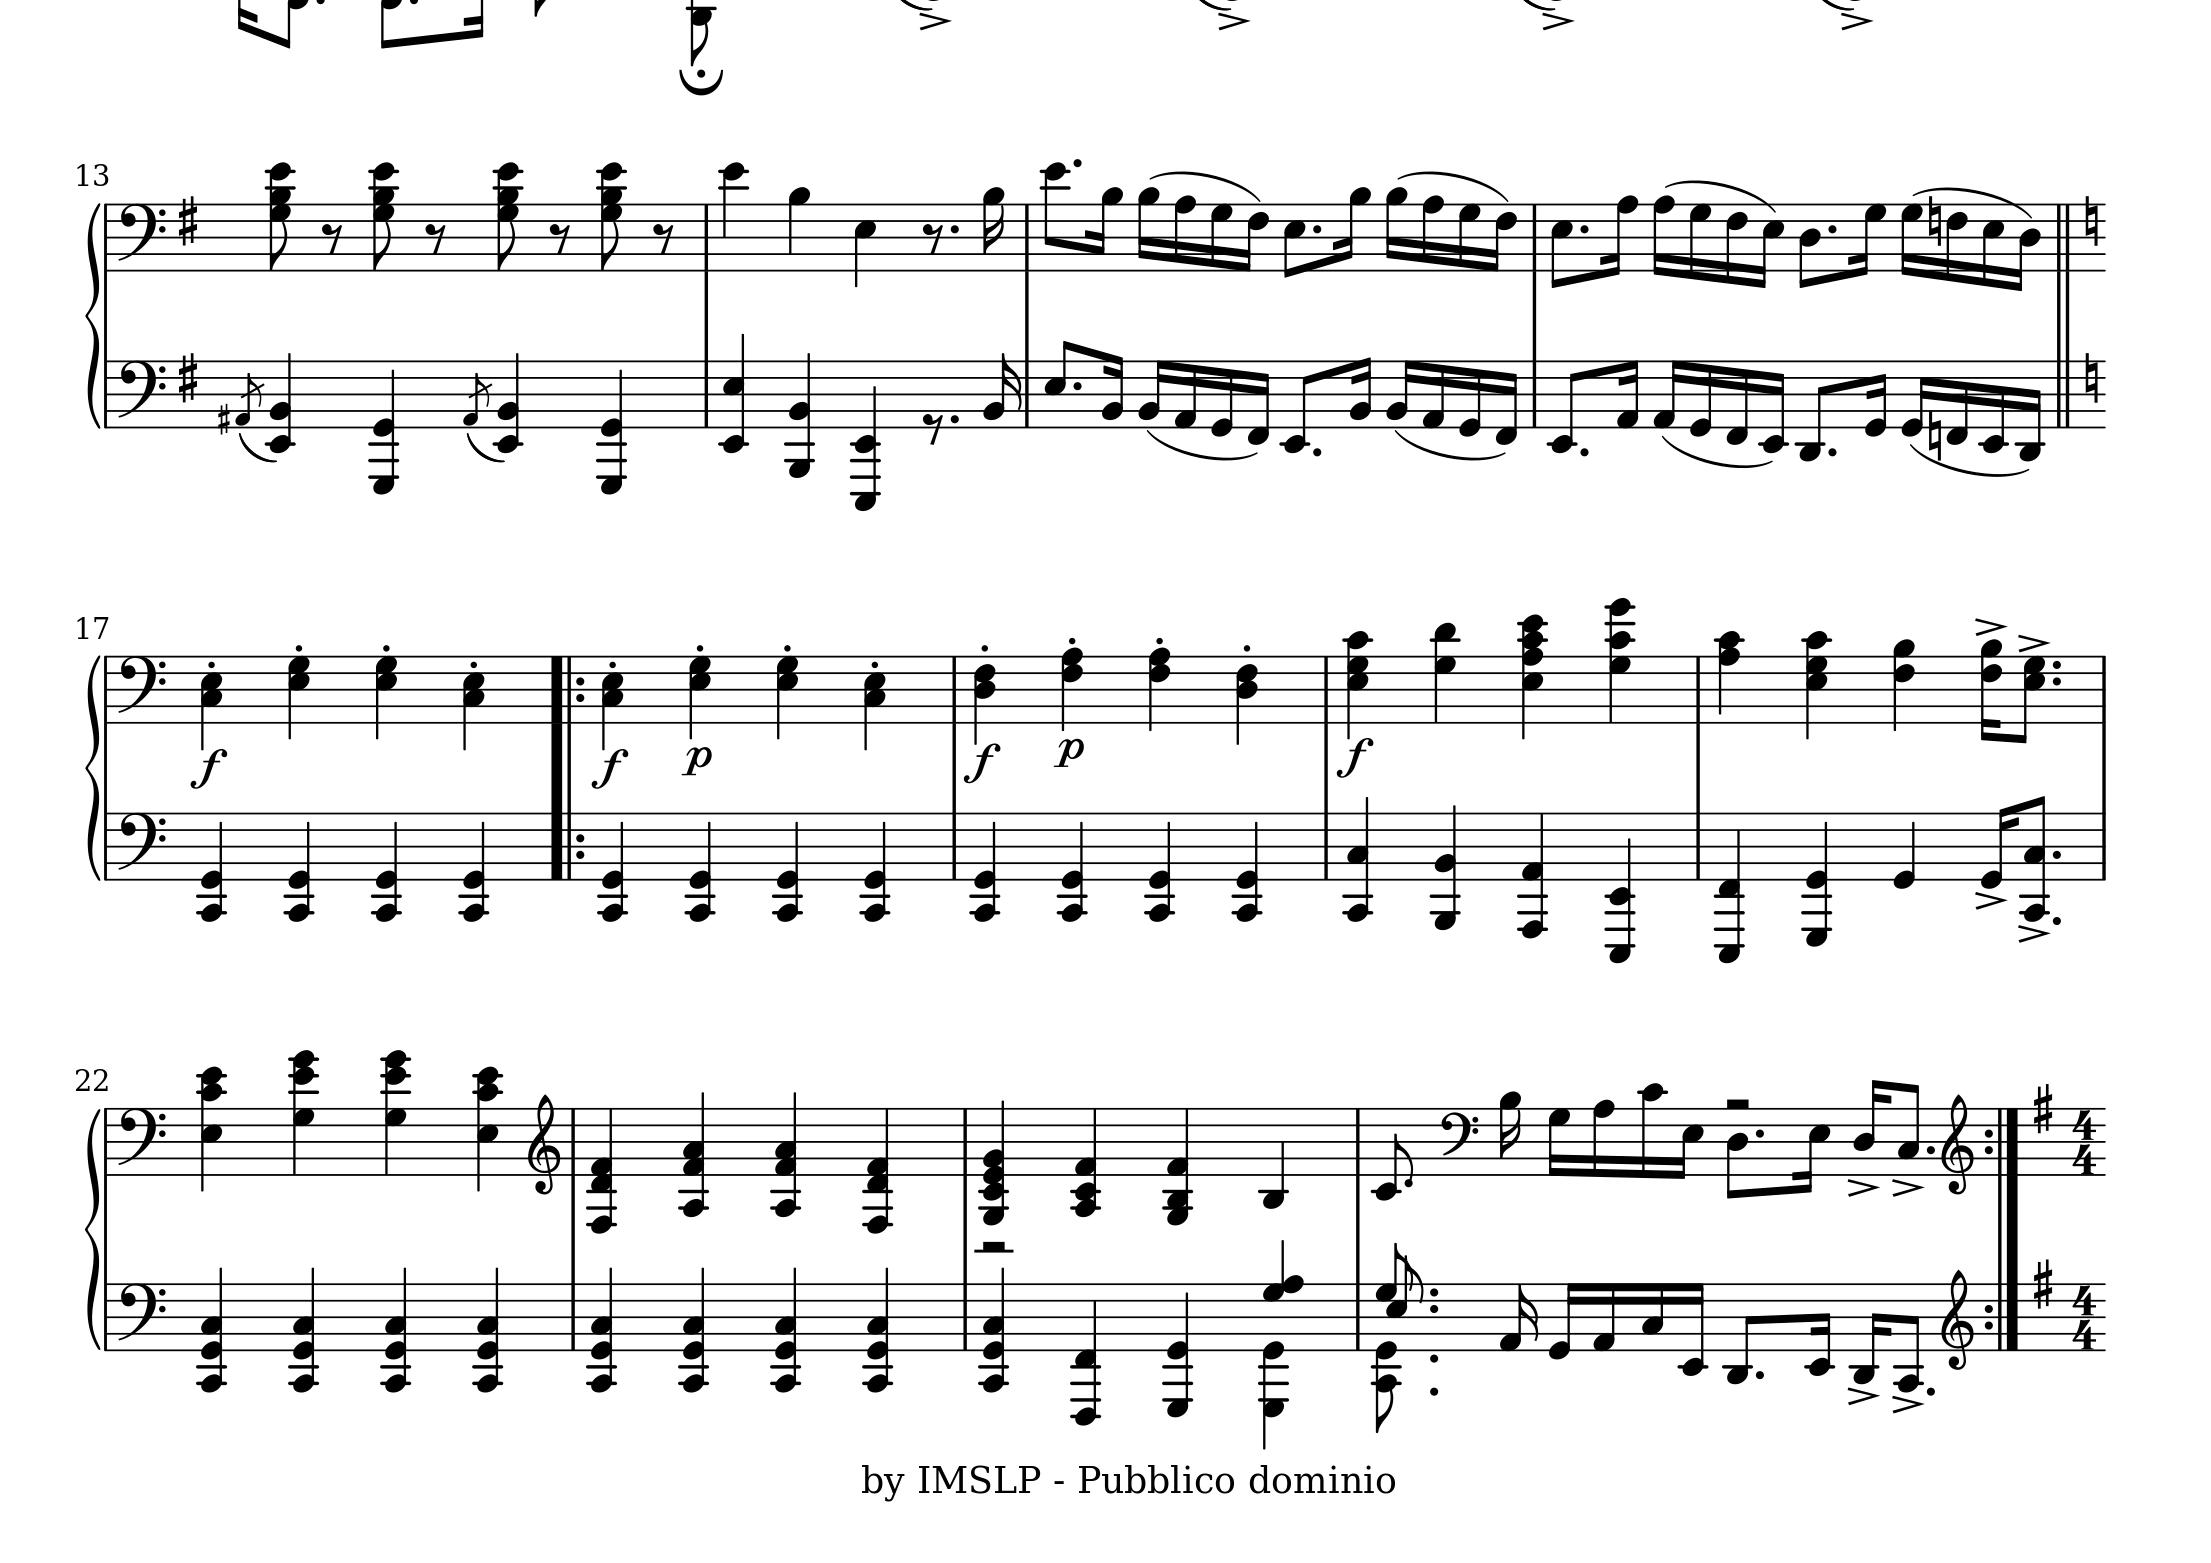1: (74, 614, 90, 643), (74, 161, 90, 188)
16_-1: (1945, 357, 1971, 447), (1245, 359, 1270, 445), (1494, 359, 1519, 445), (1725, 357, 1749, 447)
16_-2: (1803, 1282, 1834, 1379), (1678, 1281, 1707, 1377), (1979, 359, 2006, 455), (1759, 359, 1786, 453)
16_-3: (1851, 1281, 1886, 1384), (2016, 359, 2044, 463)
16_0: (1978, 803, 2018, 888), (1546, 1281, 1580, 1362), (1900, 359, 1930, 438), (1457, 357, 1484, 438), (1863, 359, 1890, 438), (1210, 357, 1235, 436), (1688, 357, 1714, 436)
16_1: (1499, 1282, 1539, 1353), (1651, 359, 1683, 430), (1172, 357, 1199, 430), (1590, 1281, 1617, 1353), (1421, 357, 1446, 430), (1614, 359, 1639, 430)
16_10: (1638, 1081, 1666, 1181)
16_2: (981, 350, 1022, 430), (1137, 357, 1167, 430), (1385, 357, 1414, 430), (1347, 355, 1374, 430), (1100, 352, 1125, 430)
16_3: (1639, 1281, 1666, 1352)
16_4: (1852, 1076, 1888, 1176), (2011, 201, 2042, 293)
16_5: (1791, 1106, 1830, 1194), (1754, 201, 1785, 289), (1675, 1105, 1705, 1181), (1981, 201, 2005, 289)
16_6: (1238, 201, 1269, 272), (1487, 201, 1517, 272), (1724, 201, 1747, 286), (1945, 201, 1967, 284)
16_6_9: (1979, 638, 2001, 744)
16_7: (1851, 201, 1886, 277), (1687, 201, 1712, 282), (1898, 200, 1923, 279), (1208, 200, 1233, 274), (1546, 1105, 1572, 1177), (1457, 200, 1480, 272)
16_8: (1604, 195, 1639, 277), (1590, 1098, 1616, 1177), (1172, 195, 1198, 272), (1419, 195, 1445, 272), (1651, 195, 1675, 277)
16_9: (1089, 184, 1123, 272), (1336, 184, 1370, 272), (979, 184, 1007, 272), (1495, 1089, 1522, 1177), (1135, 184, 1160, 272), (1384, 184, 1407, 272)
2: (90, 1066, 108, 1093), (73, 1066, 91, 1093)
3: (91, 161, 108, 188)
4: (2071, 1281, 2098, 1318), (2071, 1106, 2098, 1142), (2071, 1142, 2098, 1176), (2071, 1316, 2098, 1350)
4_-2_2: (491, 354, 526, 453)
4_-2_4: (717, 333, 753, 453), (264, 354, 296, 453)
4_-4_0: (1232, 810, 1264, 924), (1056, 809, 1088, 922), (859, 809, 892, 922), (683, 809, 716, 922), (595, 809, 628, 920), (283, 809, 315, 920), (969, 809, 1000, 922), (773, 810, 804, 924), (458, 810, 489, 924), (196, 809, 227, 922), (1144, 809, 1174, 920), (369, 809, 399, 920)
4_-4_3: (1341, 797, 1375, 924)
4_-5_2: (783, 350, 817, 479), (1429, 805, 1463, 930)
4_-6_1: (1514, 810, 1548, 941)
4_-7_-2: (1604, 810, 1638, 964)
4_-7_0: (365, 359, 401, 497), (594, 359, 629, 496), (1160, 1281, 1194, 1419), (1802, 810, 1830, 947)
4_-8_-1: (1071, 1282, 1101, 1424)
4_-9_-1: (1710, 810, 1746, 966)
4_-9_-2: (849, 359, 881, 513)
4_0: (1891, 810, 1918, 890)
4_12: (719, 161, 749, 272)
4_3_5: (200, 655, 225, 754), (863, 655, 888, 751), (601, 653, 624, 749), (462, 653, 484, 753)
4_4_6: (973, 655, 1000, 743), (1237, 655, 1260, 749)
4_4th: (1516, 611, 1550, 739)
4_5: (853, 200, 878, 289)
4_5_7: (284, 655, 313, 743), (372, 655, 401, 739), (687, 655, 712, 743), (775, 653, 800, 741)
4_6_8: (1147, 646, 1172, 732), (1061, 646, 1084, 731)
4_6_9: (1891, 636, 1918, 732)
4_8_10: (1714, 629, 1744, 726)
4_9: (787, 184, 810, 272)
4_th: (379, 1265, 414, 1396), (587, 1264, 621, 1394), (288, 1265, 321, 1394), (677, 1265, 710, 1394), (770, 1265, 804, 1394), (288, 1049, 320, 1179), (678, 1089, 710, 1220), (771, 1089, 804, 1220), (196, 1264, 228, 1394), (979, 1264, 1012, 1394), (474, 1265, 506, 1394), (1604, 595, 1636, 722), (195, 1066, 227, 1191), (379, 1047, 409, 1179), (863, 1105, 893, 1235), (863, 1264, 893, 1394), (470, 1066, 501, 1193), (1162, 1106, 1194, 1226), (589, 1105, 617, 1237), (1071, 1106, 1101, 1220), (1802, 628, 1830, 739)
7: (91, 612, 110, 643)
8_-2: (1370, 1105, 1414, 1201), (1279, 359, 1316, 453), (1546, 359, 1583, 453)
8_-3: (1724, 1281, 1756, 1385), (1797, 359, 1829, 462)
8_-4: (1893, 1282, 1923, 1394)
8_-4_3: (2022, 795, 2050, 924)
8_12: (1042, 157, 1071, 272)
8_3: (1896, 1081, 1920, 1176)
8_4: (1725, 1106, 1749, 1201), (1797, 201, 1820, 289)
8_5: (1042, 337, 1074, 430), (1550, 201, 1573, 288), (1282, 201, 1306, 277)
8_5_7: (2011, 655, 2049, 744)
8_th: (262, 161, 296, 272), (491, 161, 524, 272), (594, 161, 628, 272), (367, 159, 399, 272)
Accent_above: (1215, 8, 1252, 30), (1539, 8, 1577, 30), (915, 10, 952, 30), (1890, 1177, 1927, 1198), (1890, 1394, 1927, 1414), (1839, 10, 1874, 30), (1972, 616, 2008, 636), (2015, 631, 2050, 651), (1846, 1177, 1879, 1198), (1846, 1385, 1879, 1406), (1972, 890, 2008, 908), (2015, 924, 2050, 942)
Acciaccature: (462, 359, 492, 433), (235, 359, 266, 431)
Brace: (83, 655, 103, 881), (83, 1106, 101, 1348), (83, 201, 101, 430)
Double_barline: (2050, 359, 2076, 426), (2050, 201, 2074, 271)
Fclef: (113, 200, 167, 272), (113, 653, 166, 726), (115, 809, 167, 881), (115, 1281, 167, 1353), (115, 359, 167, 430), (115, 1106, 167, 1177), (1438, 1106, 1479, 1176)
Fermata_above: (677, 64, 727, 95)
Gclef: (526, 1093, 562, 1196), (1940, 1093, 1974, 1196), (1940, 1267, 1974, 1370)
LeftRepeatSign: (546, 810, 587, 881), (546, 655, 587, 722)
Natural: (2082, 193, 2099, 249), (1927, 195, 1944, 249), (2082, 352, 2099, 404), (1928, 408, 1944, 462)
Rests2: (1722, 1093, 1754, 1111)
Rests8: (320, 220, 345, 255), (423, 220, 448, 255), (920, 220, 946, 255), (920, 409, 946, 445), (651, 222, 677, 255), (548, 220, 572, 255)
RightRepeatSign: (1984, 1106, 2020, 1176), (1984, 1282, 2020, 1350)
Sharp: (174, 193, 200, 249), (174, 350, 200, 404), (2032, 1081, 2054, 1135), (2032, 1257, 2054, 1311), (217, 403, 232, 436)
Single_barline: (568, 1274, 597, 1372), (1688, 810, 1707, 880), (697, 205, 716, 271), (1690, 656, 1709, 722), (1318, 810, 1335, 880), (1526, 203, 1543, 271), (946, 655, 963, 722), (1318, 655, 1335, 722), (946, 812, 963, 880), (2094, 812, 2111, 880), (2094, 656, 2111, 722), (1350, 1108, 1367, 1174), (699, 359, 714, 428), (957, 1282, 973, 1352), (100, 203, 115, 271), (1018, 359, 1034, 426), (1528, 360, 1543, 428), (100, 1108, 115, 1176), (1018, 203, 1034, 269), (565, 1110, 580, 1176), (957, 1110, 973, 1176), (100, 1282, 115, 1348), (1350, 1282, 1365, 1348), (565, 1284, 580, 1348), (101, 359, 115, 426), (100, 812, 113, 880), (100, 656, 113, 722)
Slur: (1908, 441, 2030, 477), (1912, 184, 2035, 218), (1145, 169, 1265, 203), (1658, 433, 1773, 467), (1663, 178, 1776, 211), (1144, 426, 1259, 458), (1399, 169, 1511, 201), (1392, 428, 1506, 458), (464, 430, 506, 463), (237, 430, 279, 462)
TimeSig: (2071, 1106, 2099, 1176), (2071, 1281, 2099, 1348)
dot: (2049, 663, 2064, 682), (1751, 1127, 1768, 1142), (1309, 443, 1325, 458), (1577, 443, 1590, 458), (1825, 443, 1839, 458), (2049, 656, 2064, 670), (2049, 673, 2064, 687), (2050, 913, 2064, 929), (1428, 1286, 1441, 1301), (1753, 1368, 1768, 1382), (1577, 222, 1590, 235), (1825, 222, 1839, 235), (1071, 377, 1084, 391), (1428, 1301, 1441, 1314), (1428, 1350, 1441, 1363), (1428, 1384, 1441, 1397), (1069, 156, 1084, 167), (2049, 847, 2064, 859), (1309, 222, 1323, 233), (947, 413, 961, 425), (1923, 1143, 1935, 1155), (949, 222, 959, 233)
f: (1335, 738, 1375, 780), (189, 748, 228, 788), (590, 748, 629, 788), (963, 743, 1001, 783)
p: (1052, 736, 1084, 770), (682, 743, 712, 776)
